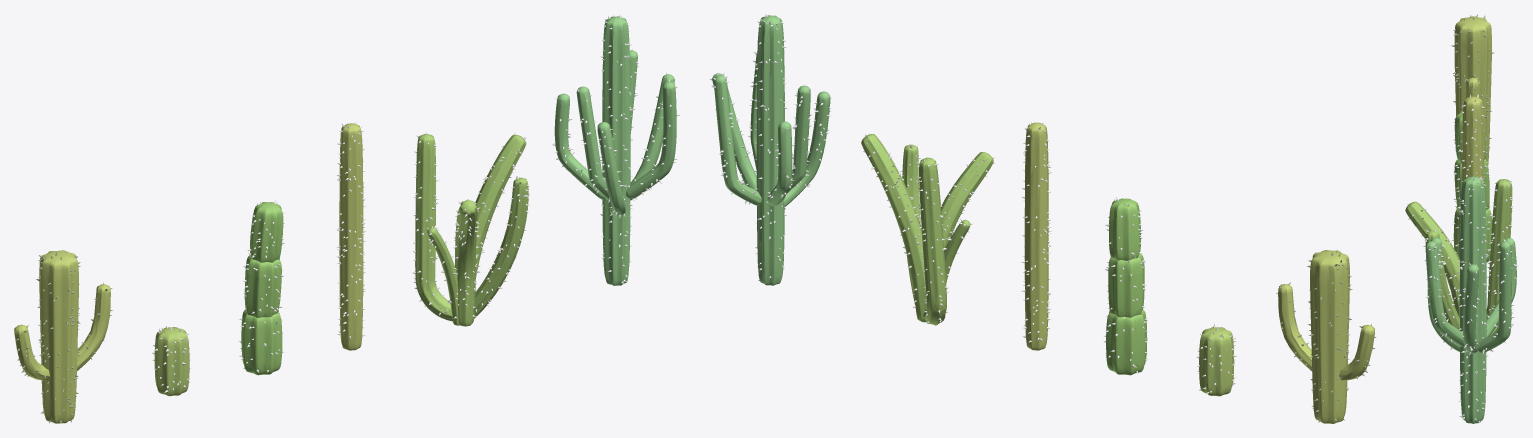
File: Cactus1.gltf
3 renders of one model, left to right at view 1: azimuth 30°, elevation 25°; view 2: azimuth 150°, elevation 25°; view 3: azimuth 270°, elevation 25°, orthographic. The views are drawn at different scales.
Parts seen in each view (by area): view 1: Node1385, Node971, Node181, Node409, Node579, Node251; view 2: Node1385, Node971, Node181, Node409, Node579, Node251; view 3: Node1385, Node971, Node181, Node579, Node409.
Part boxes in pixels (box(x1,y1,x2,y2)): Node1385: box(554, 16, 676, 285); Node971: box(415, 134, 528, 326); Node181: box(14, 250, 110, 423); Node409: box(241, 202, 283, 375); Node579: box(339, 123, 363, 350); Node251: box(154, 327, 189, 396); Node1385: box(712, 15, 830, 285); Node971: box(861, 134, 993, 325); Node181: box(1278, 250, 1374, 423); Node409: box(1106, 198, 1147, 375); Node579: box(1024, 122, 1048, 350); Node251: box(1199, 327, 1234, 396); Node1385: box(1425, 176, 1516, 423); Node971: box(1405, 179, 1512, 334); Node181: box(1454, 16, 1491, 164); Node579: box(1462, 96, 1484, 184); Node409: box(1453, 110, 1492, 261).
Bounding box in the file's own units: 2192 × 852 × 354.
